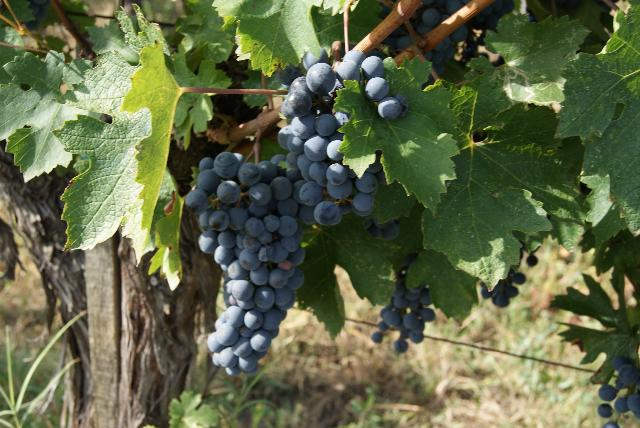grapes: (185, 151, 305, 376), (278, 50, 408, 226)
